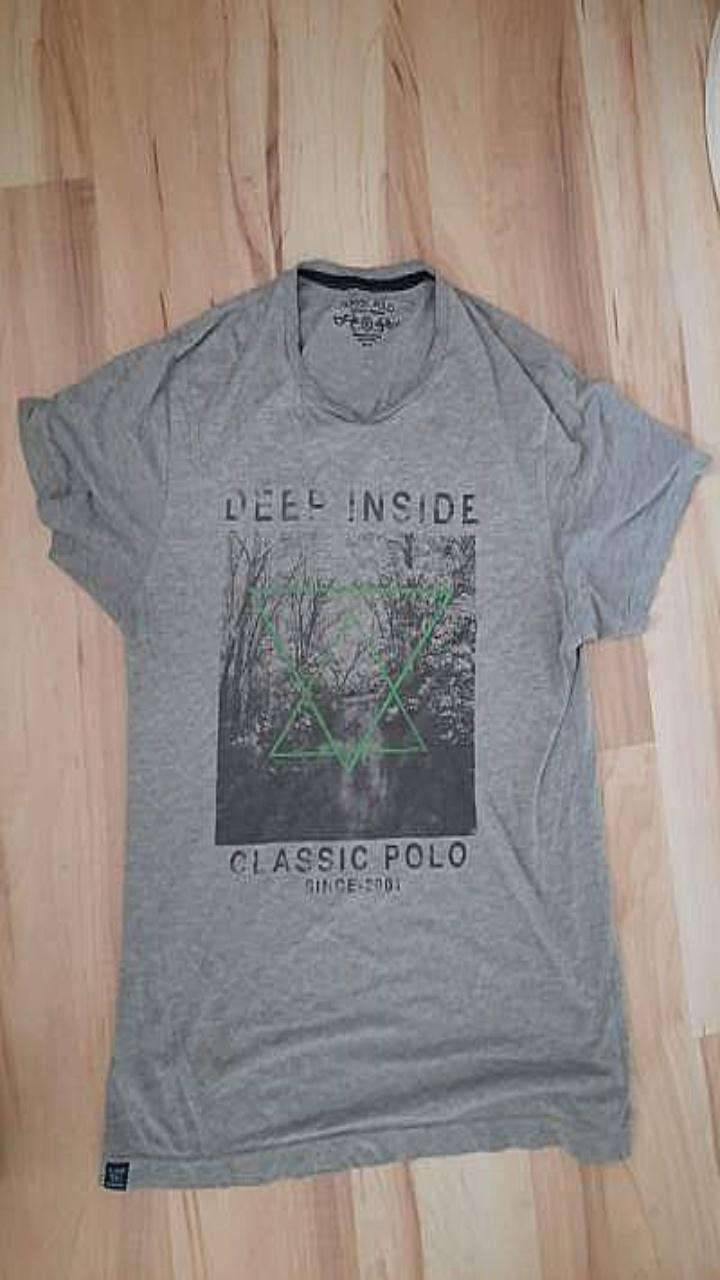T-Shirt: (18, 258, 710, 1188)
